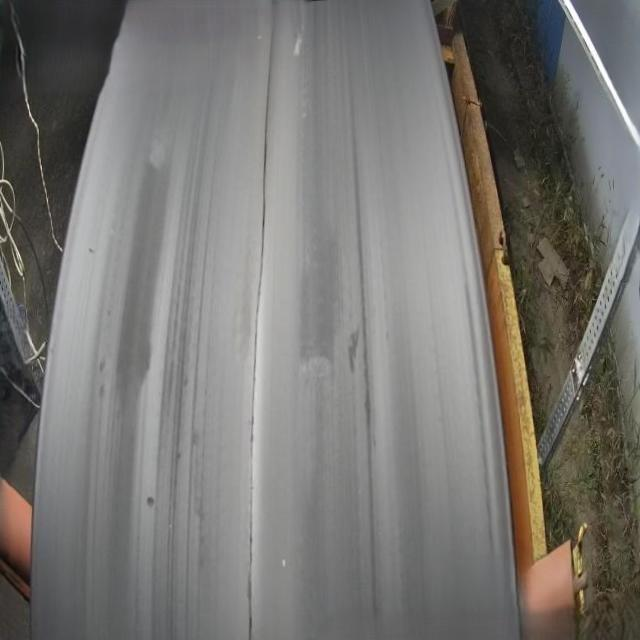Tear: (241, 0, 284, 640)
